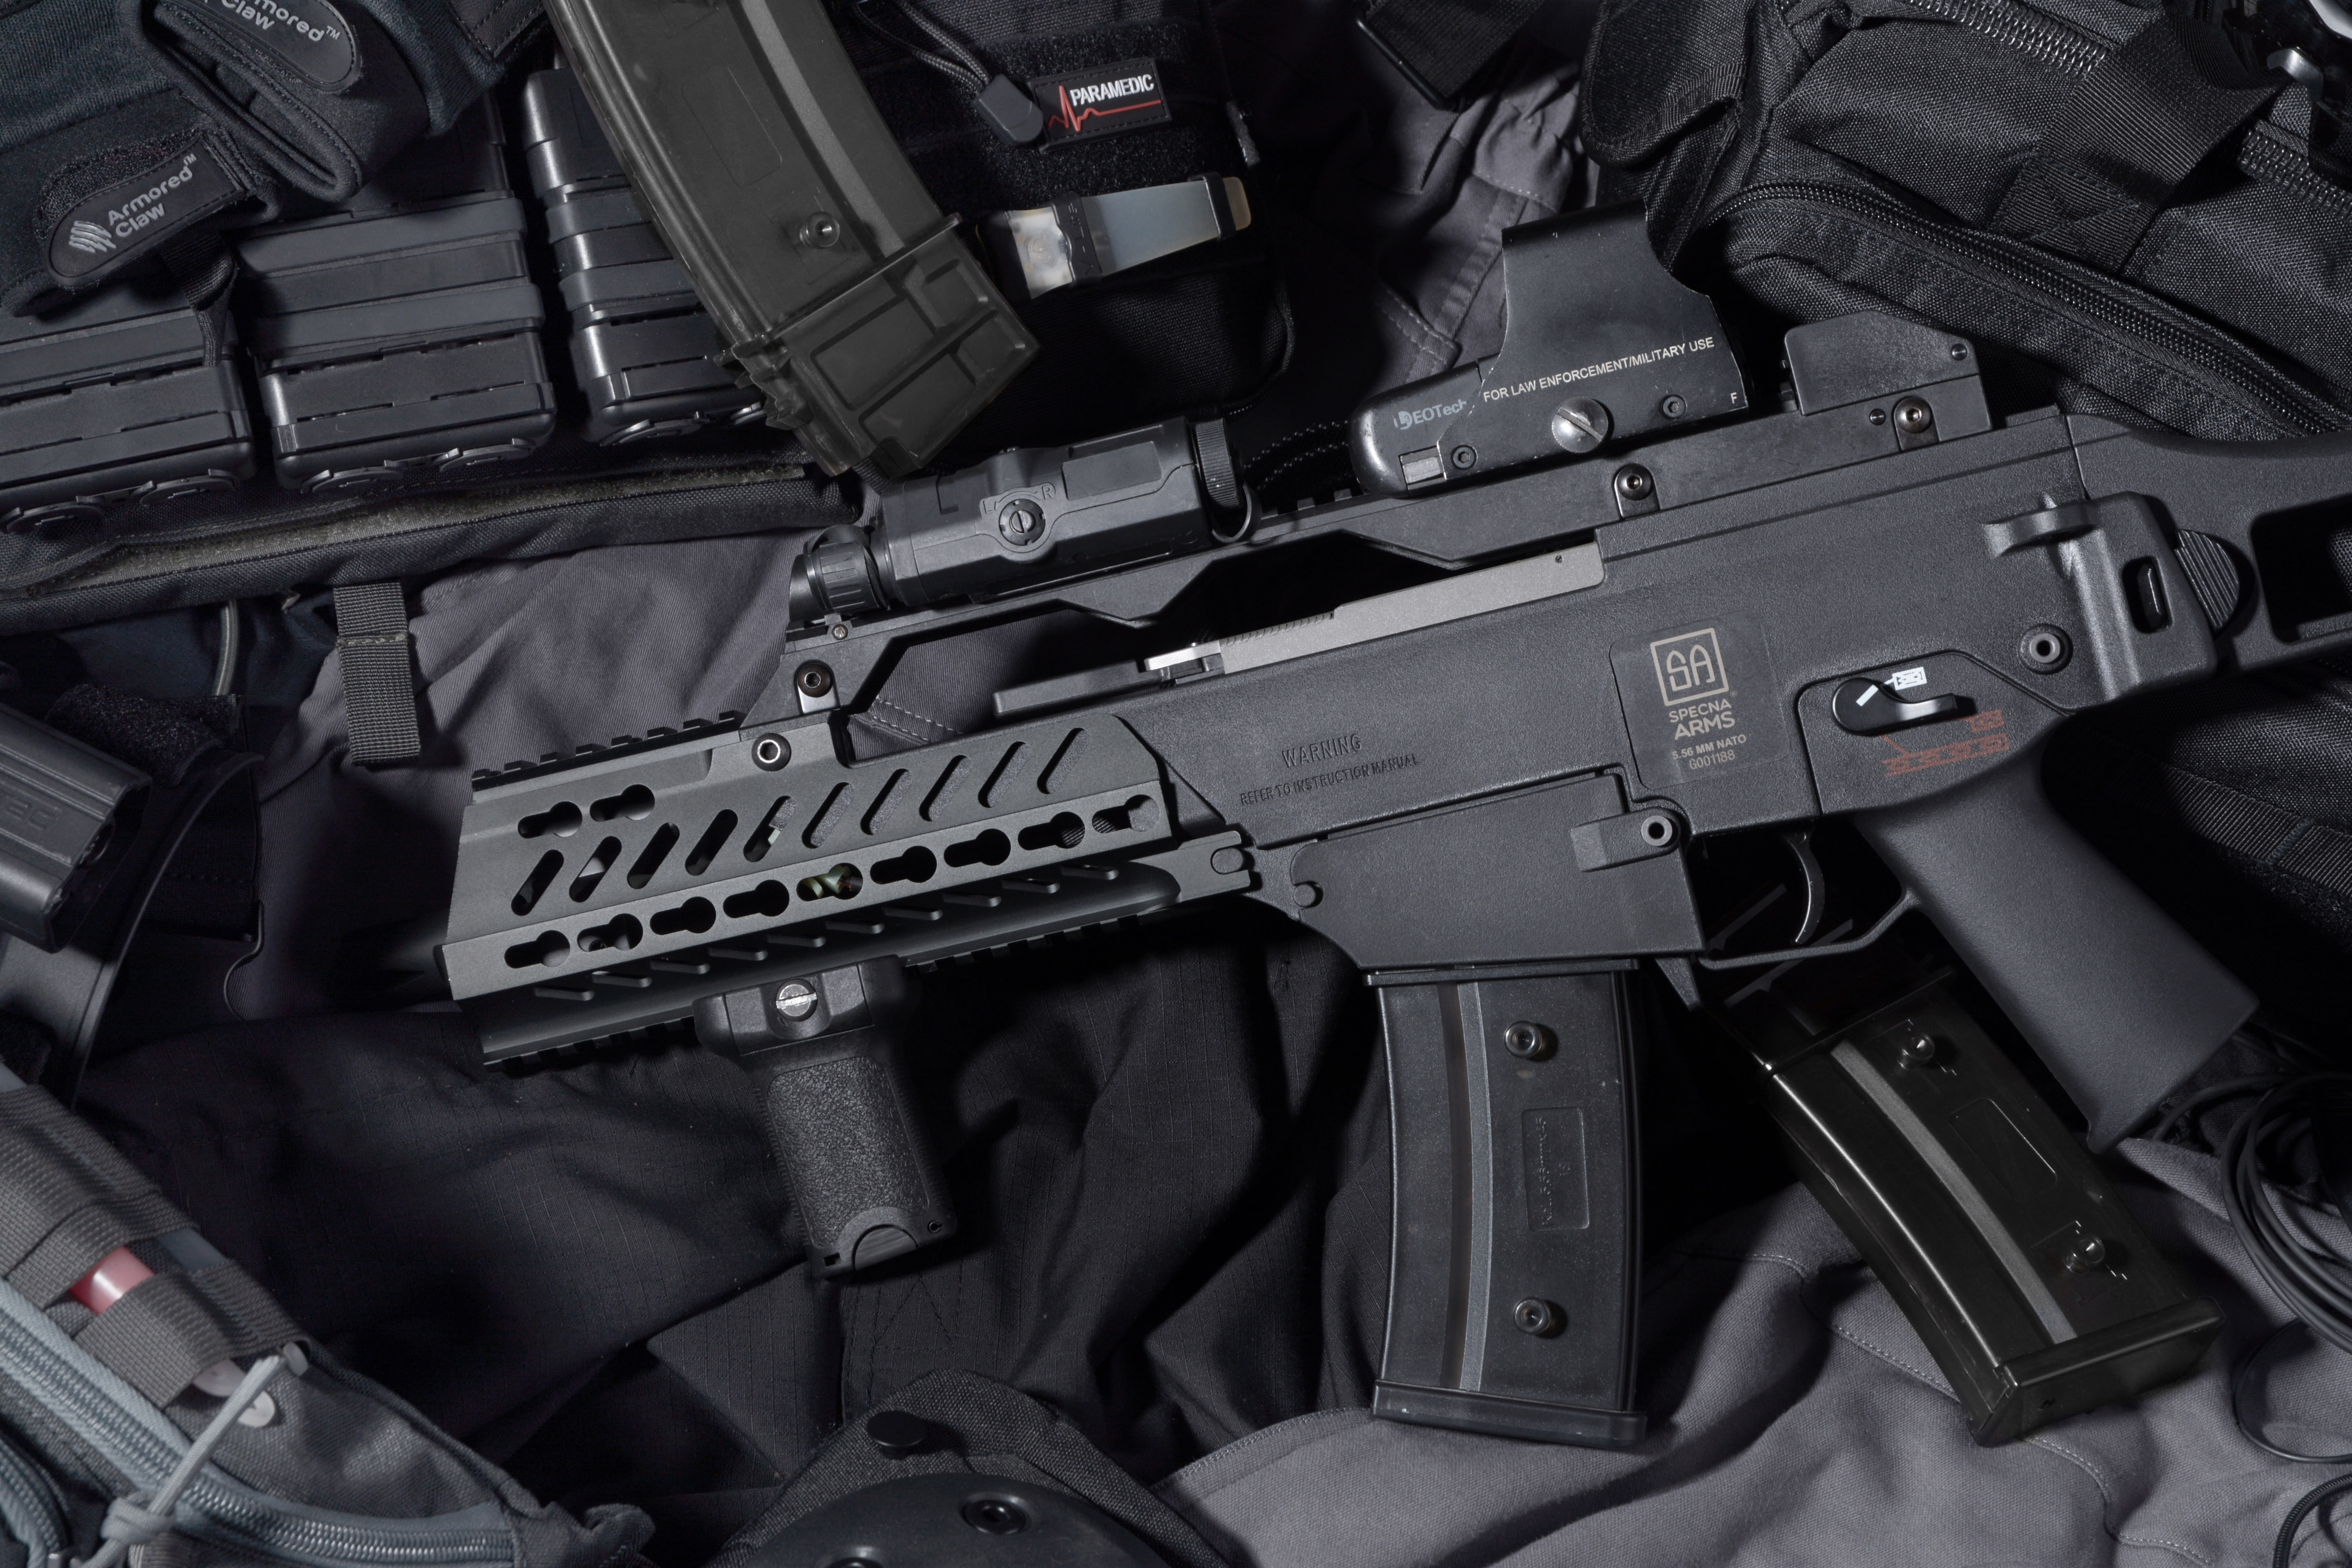Gun: (256, 289, 2195, 1477)
